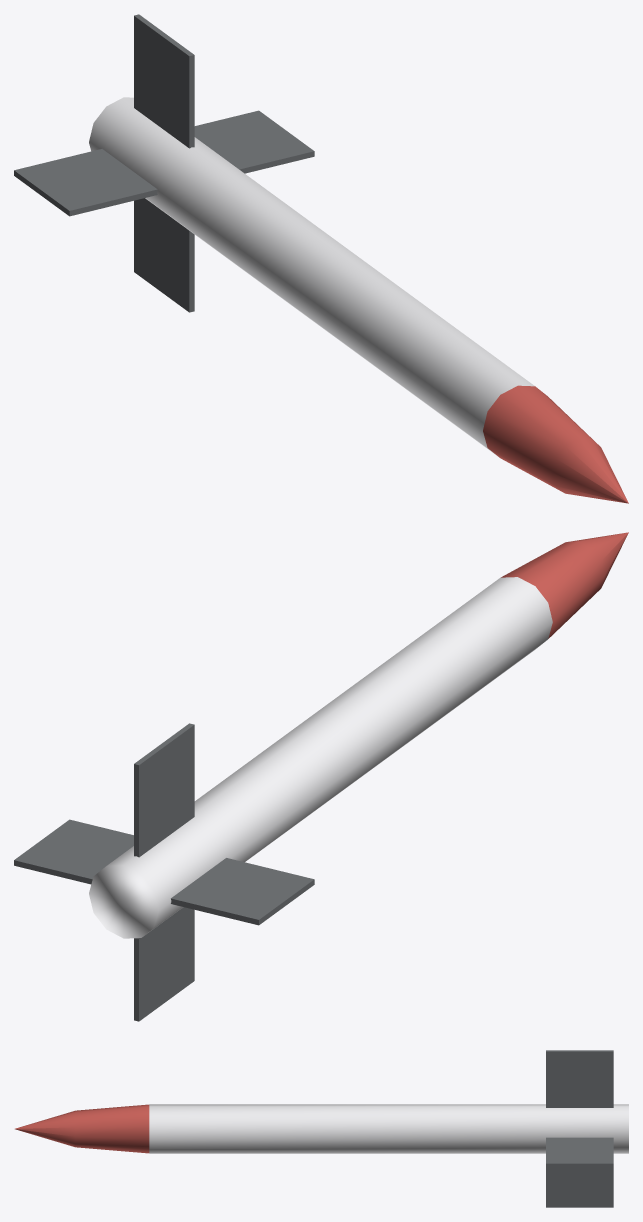
File: missile.glb
The picture shows the model from 3 angles, top to bottom: view 1: azimuth 30°, elevation 25°; view 2: azimuth 150°, elevation 25°; view 3: azimuth 270°, elevation 25°; orthographic projection. The views are drawn at different scales.
Parts seen in each view (by area): view 1: missile; view 2: missile; view 3: missile.
Boxes of the visible parts, x1,y1,x2,y2 form: missile: [14, 14, 628, 503]; missile: [14, 532, 628, 1021]; missile: [15, 1050, 628, 1207].
Size of the model in its own units: 1.4 by 1.4 by 5.
